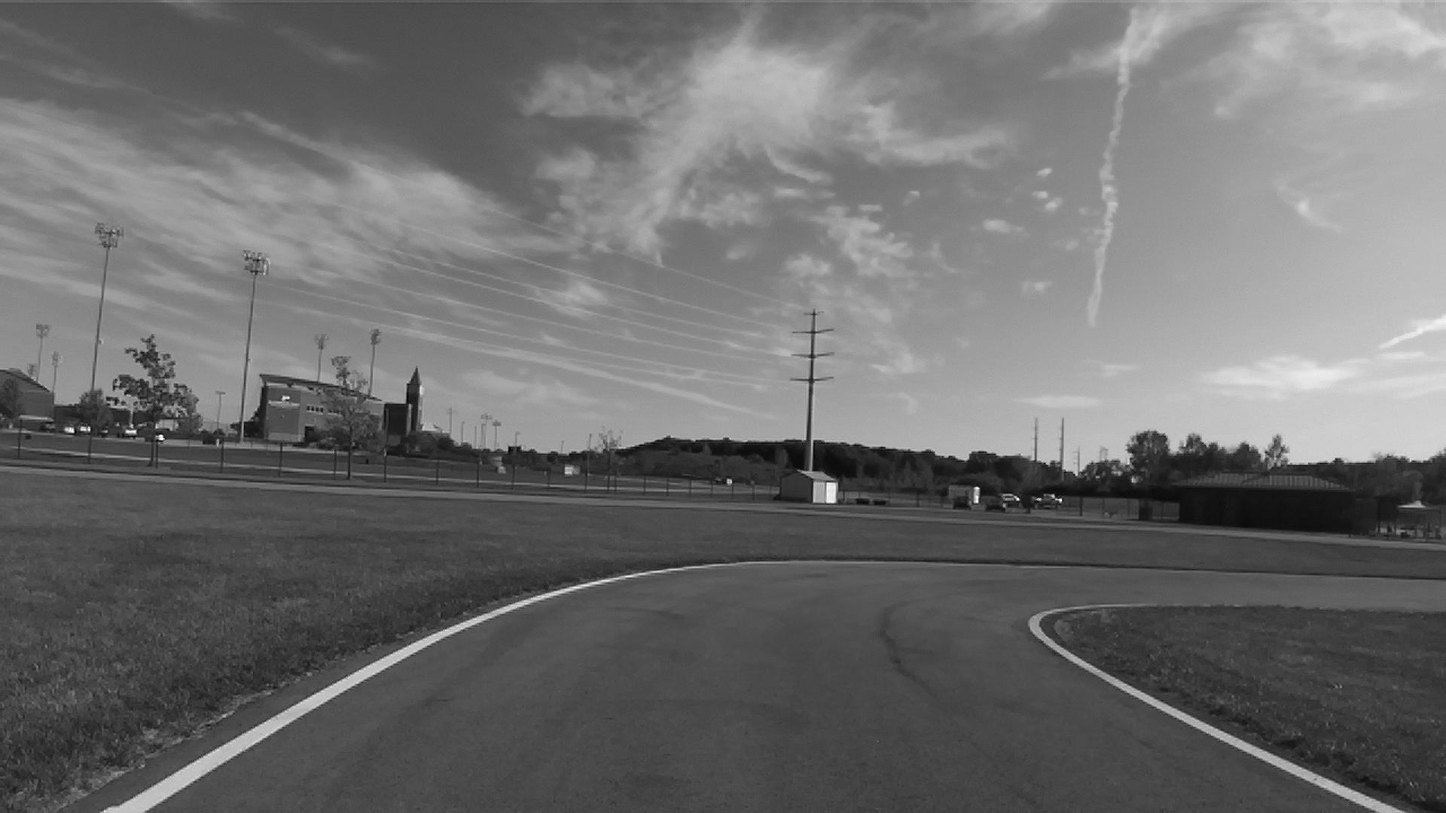white-line: (102, 560, 901, 812), (1027, 604, 1403, 812)
